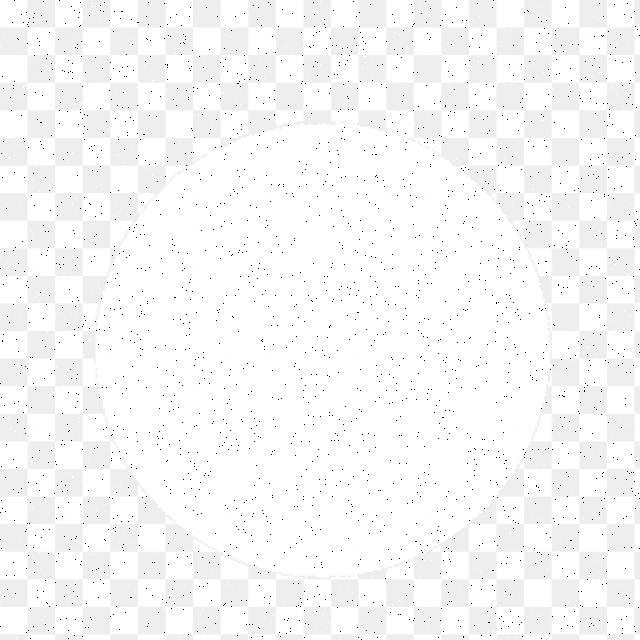Circle: (83, 124, 560, 582)
